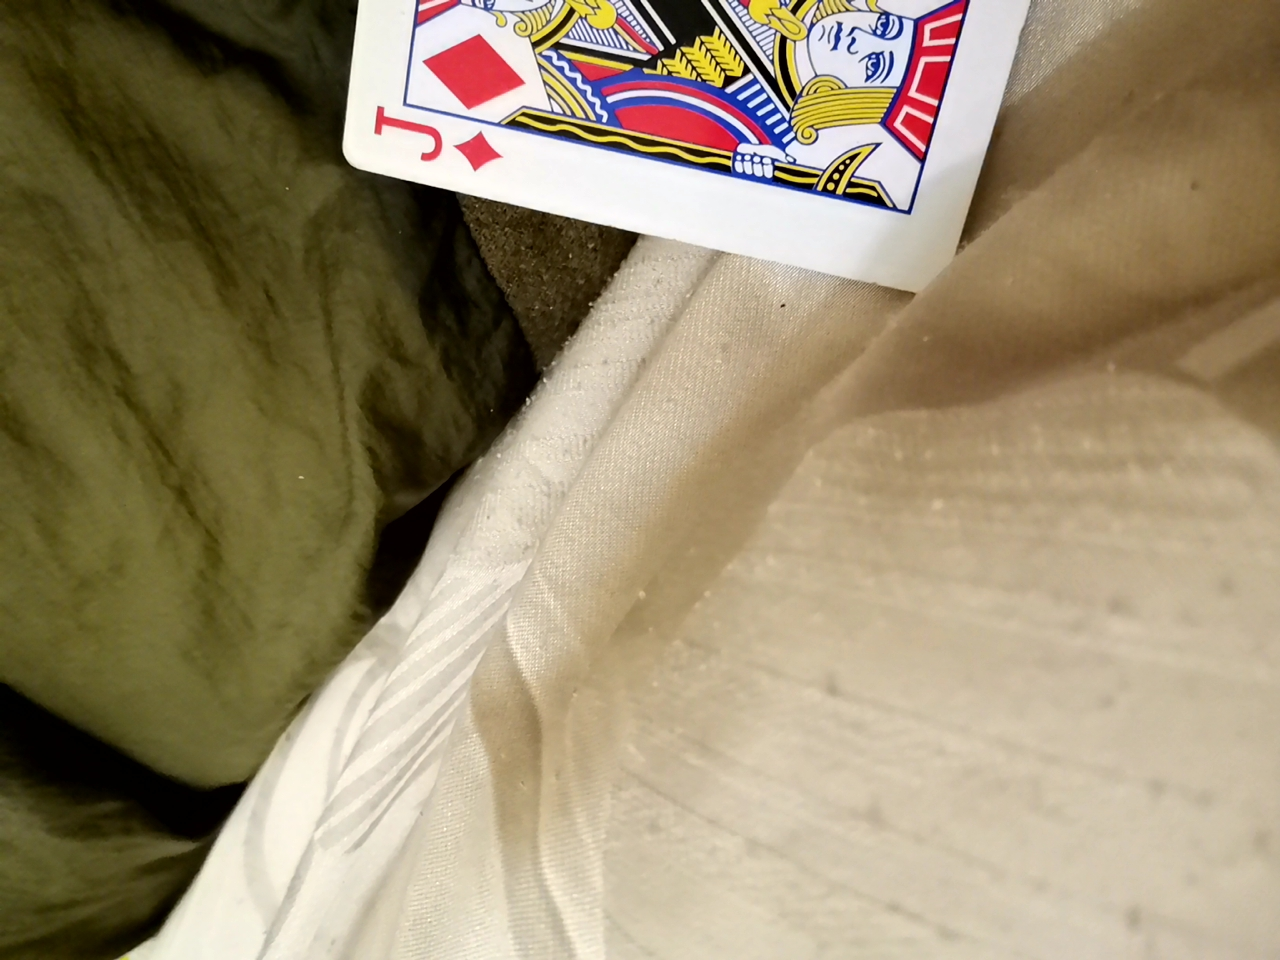fk j: (339, 0, 1052, 297)
